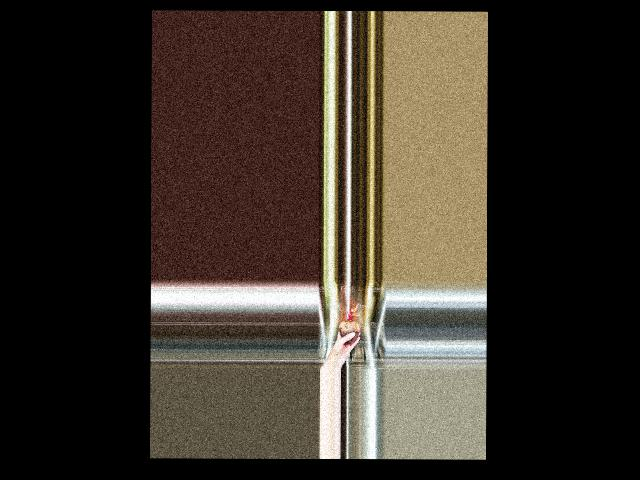beet: (339, 303, 361, 344)
